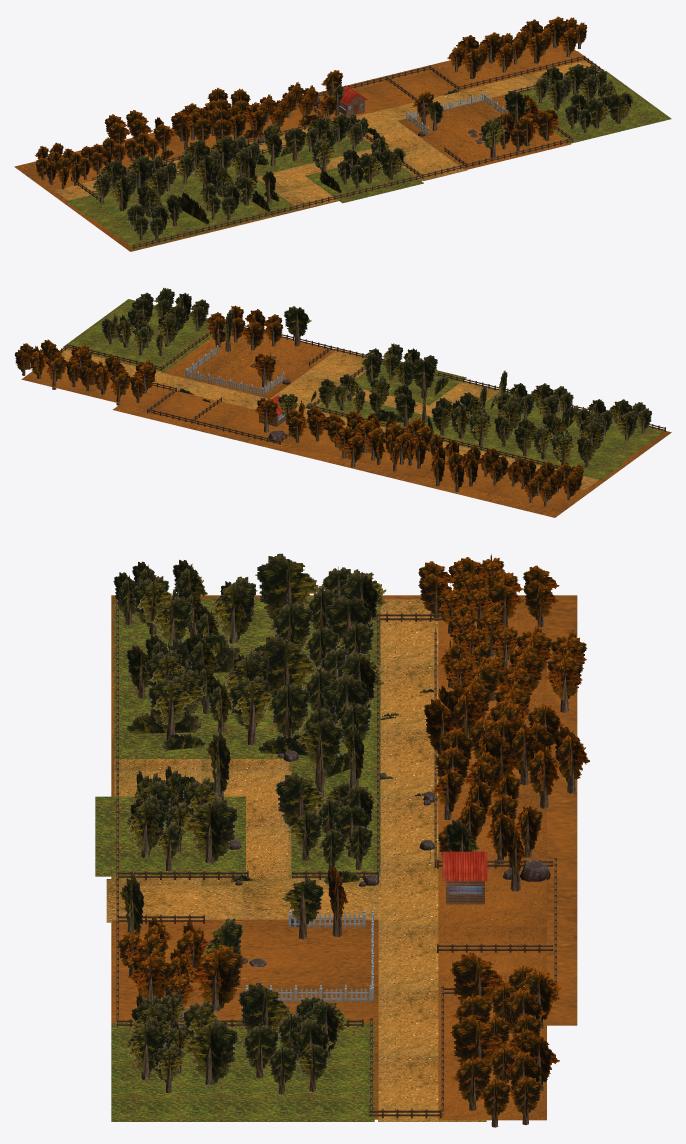
3 renders of one model, top to bottom at view 1: azimuth 30°, elevation 25°; view 2: azimuth 150°, elevation 25°; view 3: azimuth 270°, elevation 25°, orthographic. The views are drawn at different scales.
Parts seen in each view (by area): view 1: tree.006, ground.010, ground.008, ground.013, tree.002, ground.001, ground.009, ground.004, ground.014, ground.002, ground.003, tree.019 (+27 smaller); view 2: tree.006, ground.010, ground.004, ground.003, ground.008, ground.009, tree.002, ground.001, ground.013, tree.021, tree.019, tree.024 (+25 smaller); view 3: ground, tree.006, ground.009, ground.010, tree.002, ground.006, ground.003, ground.004, ground.013, ground.014, ground.008, tree.021 (+31 smaller).
Part boxes in pixels (bbox=[...]): tree.006: bbox=[91, 135, 260, 210]; ground.010: bbox=[398, 94, 569, 169]; ground.008: bbox=[363, 42, 586, 108]; ground.013: bbox=[91, 178, 298, 249]; tree.002: bbox=[126, 163, 259, 241]; ground.001: bbox=[67, 137, 371, 217]; ground.009: bbox=[517, 71, 671, 143]; ground.004: bbox=[24, 88, 389, 190]; ground.014: bbox=[251, 133, 427, 221]; ground.002: bbox=[365, 121, 467, 180]; ground.003: bbox=[14, 60, 570, 251]; tree.019: bbox=[447, 32, 522, 78]; tree.006: bbox=[431, 392, 605, 467]; ground.010: bbox=[66, 328, 335, 398]; ground.004: bbox=[221, 408, 587, 510]; ground.003: bbox=[113, 381, 671, 517]; ground.008: bbox=[21, 363, 247, 428]; ground.009: bbox=[63, 299, 212, 371]; tree.002: bbox=[493, 383, 652, 440]; ground.001: bbox=[318, 396, 623, 479]; ground.013: bbox=[466, 391, 664, 462]; tree.021: bbox=[331, 418, 433, 467]; tree.019: bbox=[79, 355, 156, 405]; tree.024: bbox=[14, 339, 91, 389]; ground: bbox=[378, 599, 438, 927]; tree.006: bbox=[255, 553, 386, 742]; ground.009: bbox=[111, 1023, 374, 1121]; ground.010: bbox=[112, 919, 378, 1119]; tree.002: bbox=[113, 559, 269, 732]; ground.006: bbox=[378, 925, 486, 1121]; ground.003: bbox=[111, 595, 577, 1025]; ground.004: bbox=[438, 596, 546, 927]; ground.013: bbox=[114, 599, 283, 758]; ground.014: bbox=[114, 759, 362, 885]; ground.008: bbox=[438, 926, 546, 1120]; tree.021: bbox=[423, 685, 589, 808].
Bounding box in the file's own units: 2631 × 248 × 1018.
Materials: 13 (13 with a texture image).
